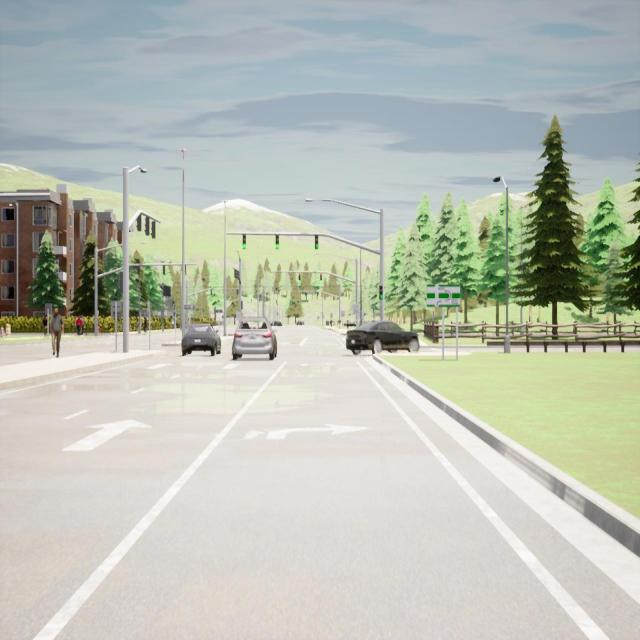Pedestrian: (48, 306, 64, 360), (75, 315, 83, 338), (42, 313, 48, 338), (142, 316, 148, 333), (330, 319, 333, 330)
Traffic_Signs: (425, 284, 461, 308), (112, 302, 121, 316), (183, 304, 194, 310), (352, 304, 358, 314)
Vehicle: (346, 316, 420, 358), (231, 316, 278, 362), (180, 322, 220, 358), (344, 318, 356, 326), (270, 320, 282, 327), (296, 320, 304, 326)
traffic_light: (119, 272, 123, 292), (145, 216, 149, 235), (137, 214, 141, 231), (151, 221, 155, 238), (243, 234, 246, 250), (315, 234, 318, 250), (276, 234, 279, 249), (380, 285, 382, 300), (137, 265, 140, 275), (298, 272, 301, 281), (163, 265, 165, 274), (320, 272, 322, 280)
